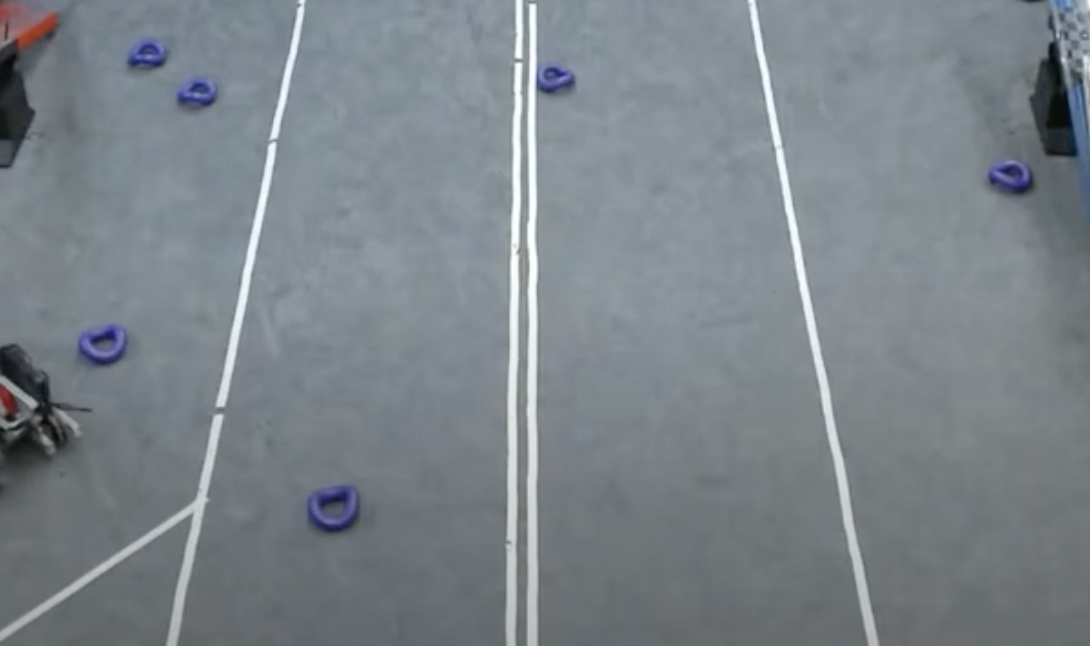ring: (307, 484, 360, 531), (79, 322, 128, 363), (989, 160, 1033, 192), (535, 62, 576, 94), (177, 77, 216, 107), (127, 40, 167, 66)
